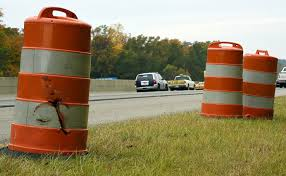barrel: (8, 7, 93, 149), (201, 43, 245, 116), (242, 51, 277, 120)
